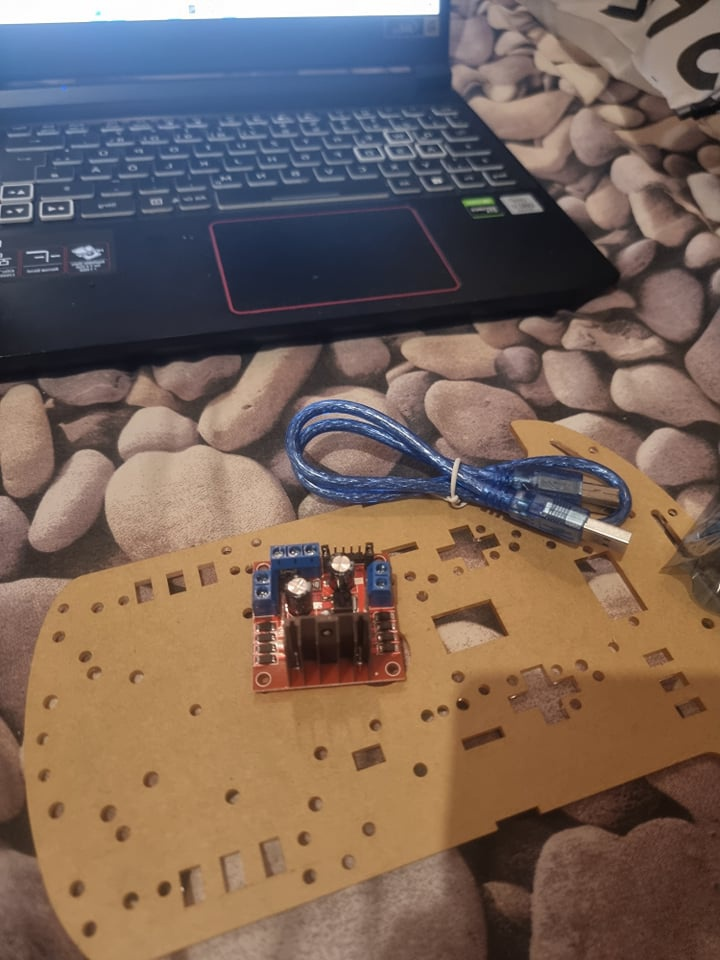MOTOR: (248, 543, 411, 695)
